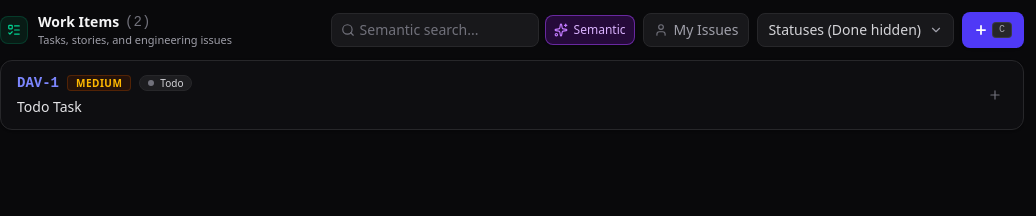
WorkItemList - Sorting and Multi-Select Status Filter › allows multi-select toggling of statuses in the dropdown menu
This screenshot has width=1036, height=216.
What coordinates should you click on to do the following:
click the button with test id "status-filter-dropdown-button"
I would click on:
 (856, 30)
Its box is [757,13,954,47].
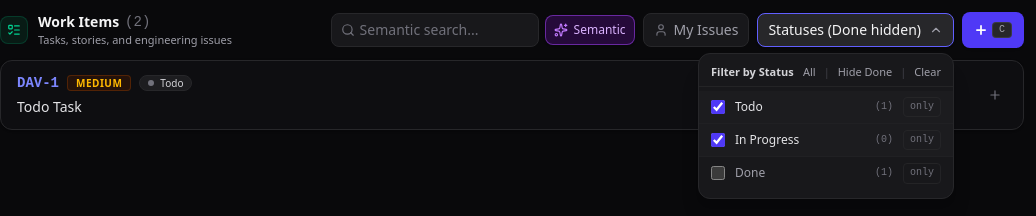
Result: the element with test id "status-filter-dropdown-menu" is shown at [698,53,954,198]
// Check Done to show done tasks
What coordinates should you click on to do the following:
click the element with test id "status-option-done"
I would click on:
 (750, 173)
Its box is [699,157,953,190].
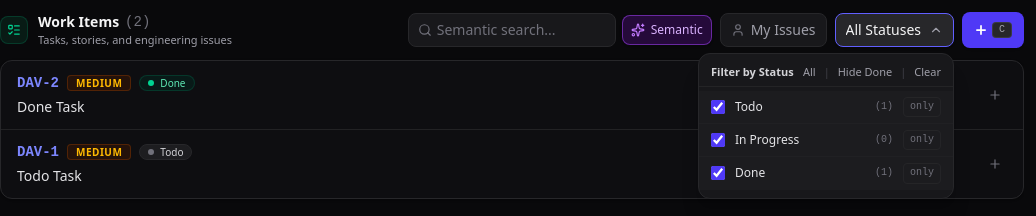
Expected: the element with test id "work-item-DAV-1" is shown, [1,130,1023,198]
Result: the element with test id "work-item-DAV-2" is shown at [1,61,1023,130]
What coordinates should you click on to do the following:
click the element with test id "status-option-todo"
I would click on:
 (826, 107)
Its box is [699,91,953,124].
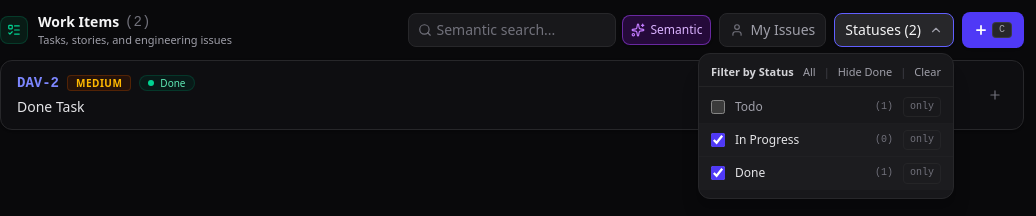
Result: the element with test id "work-item-DAV-2" is shown at [1,61,1023,129]
Result: the element with test id "work-item-DAV-1" is gone
